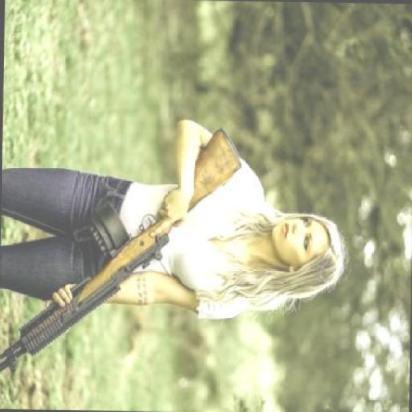Gun: (0, 123, 248, 378)
